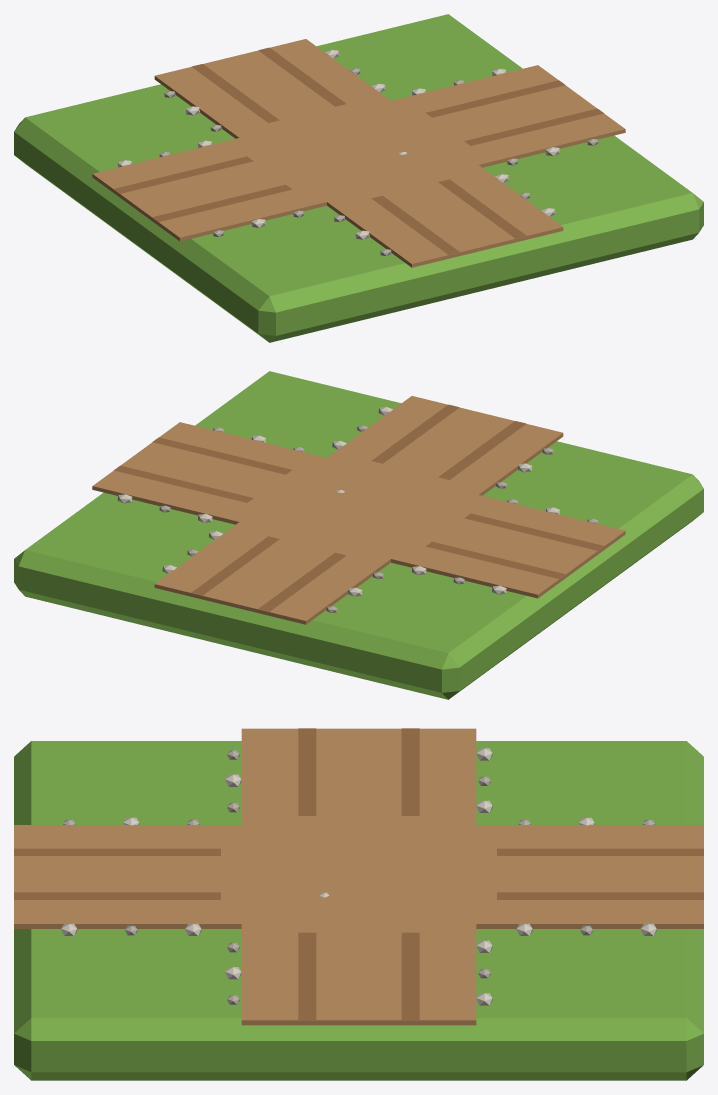
The model's file is road_l1.fbx.
3 views of the same model, one above another, from view 1: azimuth 30°, elevation 25°; view 2: azimuth 150°, elevation 25°; view 3: azimuth 270°, elevation 25° (orthographic). The views are drawn at different scales.
Visible parts, largest first — view 1: road_l1, Road_YPlus, Road_YMinus, Road_XPlus, Road_XMinus; view 2: road_l1, Road_YMinus, Road_YPlus, Road_XPlus, Road_XMinus; view 3: road_l1, Road_YMinus, Road_YPlus, Road_XPlus, Road_XMinus.
Part boxes in pixels (x1,y1,x2,y2): road_l1: (14, 14, 703, 342); Road_YPlus: (314, 157, 563, 267); Road_YMinus: (154, 39, 403, 146); Road_XPlus: (92, 132, 326, 241); Road_XMinus: (372, 65, 625, 169); road_l1: (14, 371, 703, 699); Road_YMinus: (154, 514, 403, 624); Road_YPlus: (314, 396, 563, 504); Road_XPlus: (391, 490, 625, 598); Road_XMinus: (92, 422, 339, 524); road_l1: (14, 741, 703, 1080); Road_YMinus: (441, 817, 703, 935); Road_YPlus: (14, 817, 276, 935); Road_XPlus: (225, 728, 492, 839); Road_XMinus: (225, 912, 492, 1025).
Size of the model in its own units: 1 by 0.1136 by 1.
